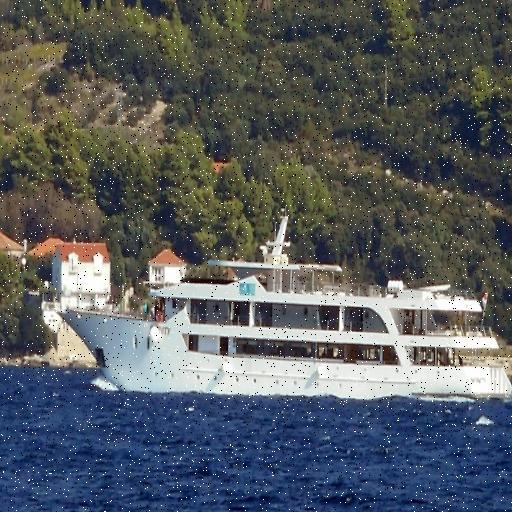cruises: (61, 212, 512, 414)
